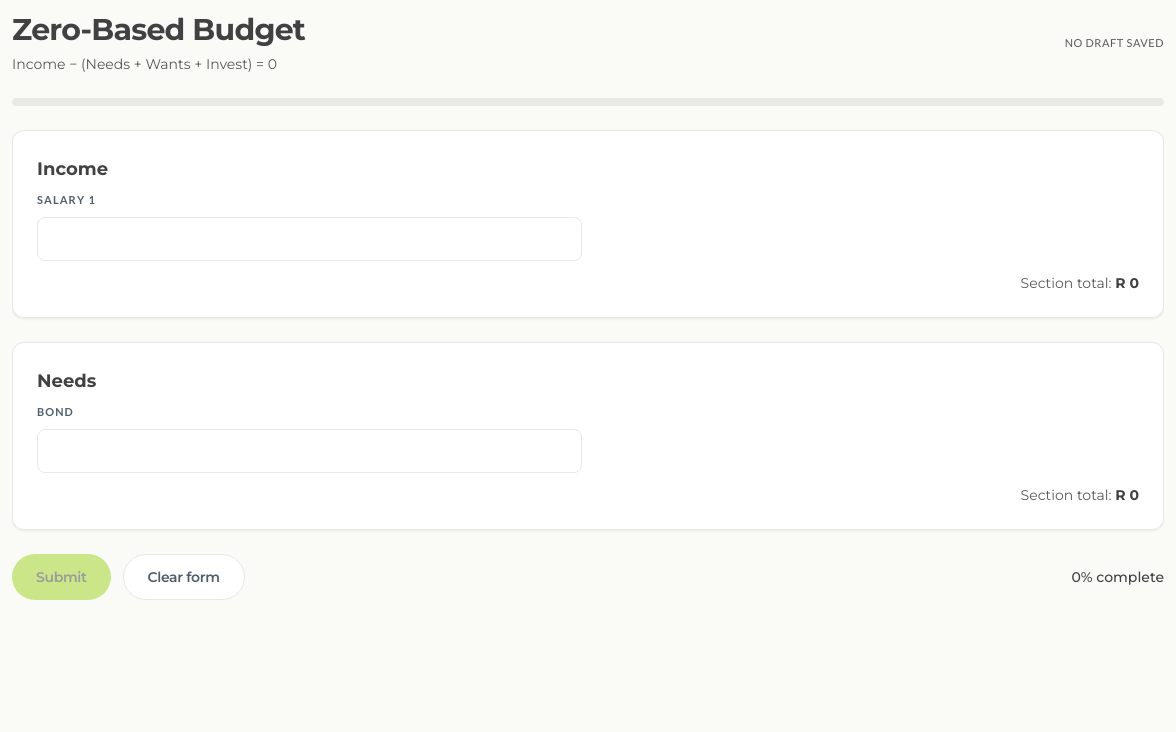
Test: WorksheetForm › Submit is disabled until completion = 100
expect the button with aria-label "submit worksheet" is disabled: met, box x1=12 y1=554 x2=111 y2=600
In the number field labelled "Salary 1": {"x": 310, "y": 239} x1=37 y1=217 x2=582 y2=261, type "45000"
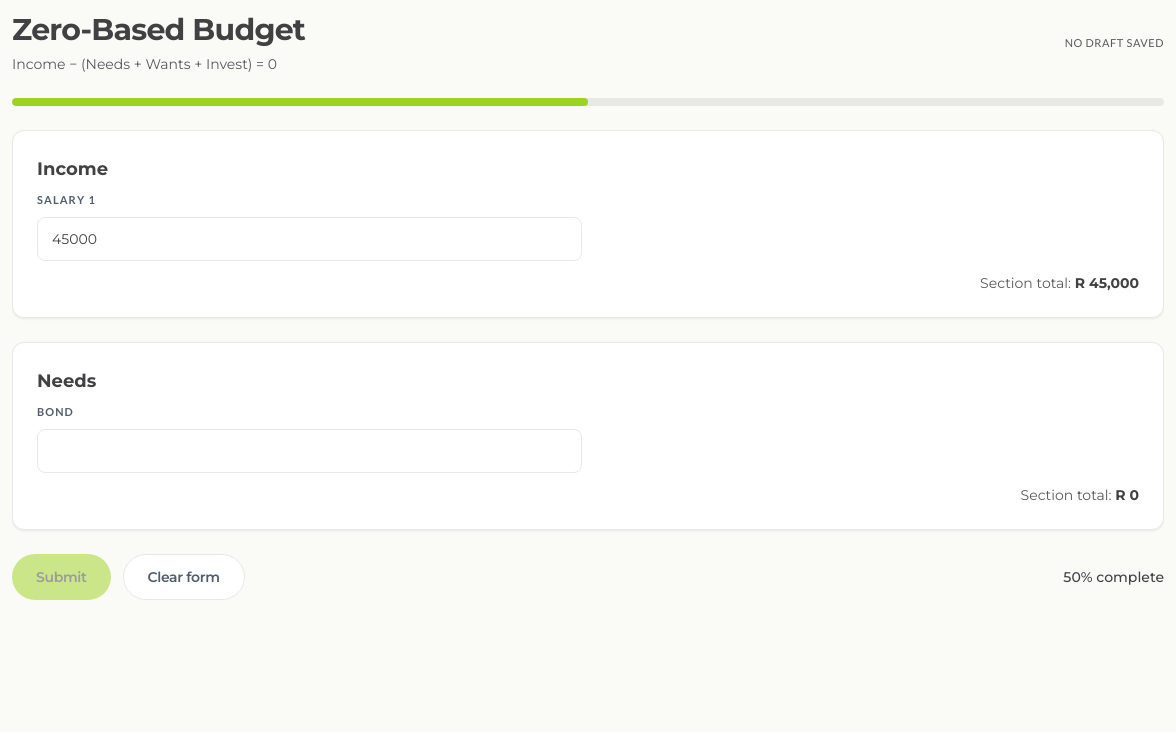
In the number field labelled "Bond": {"x": 310, "y": 451} x1=37 y1=429 x2=582 y2=473, type "11000"
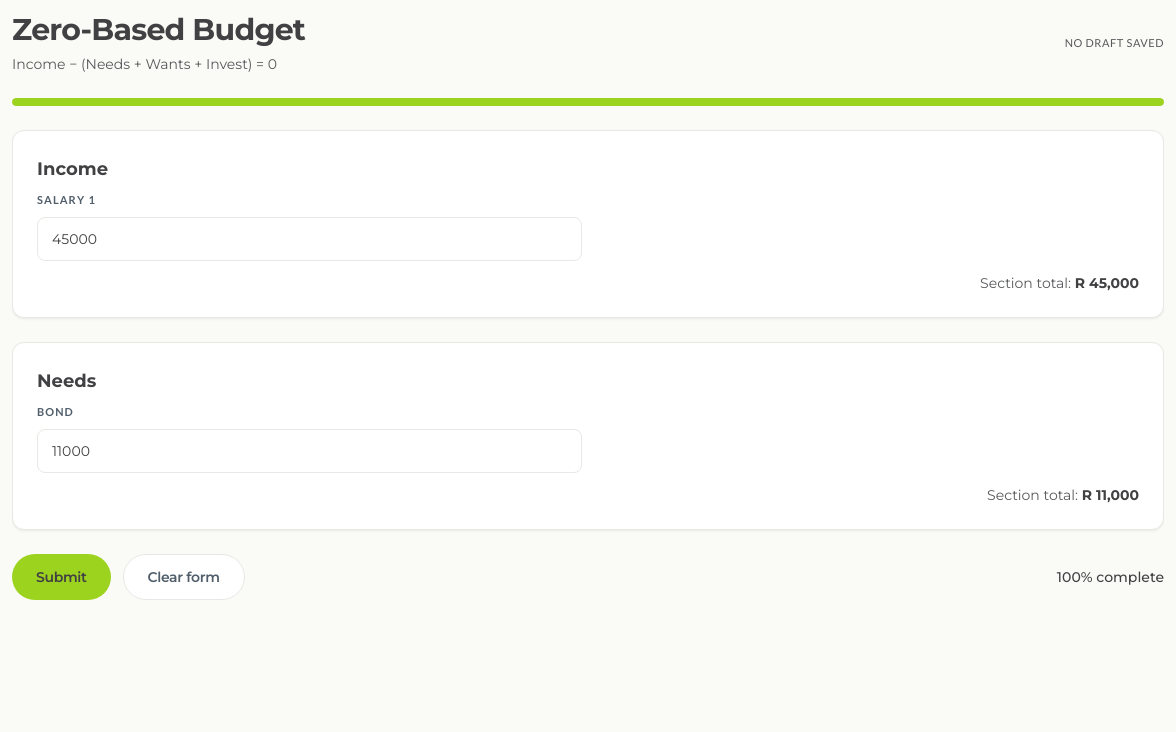
expect the button with aria-label "submit worksheet" is enabled: met, box x1=12 y1=554 x2=111 y2=600
